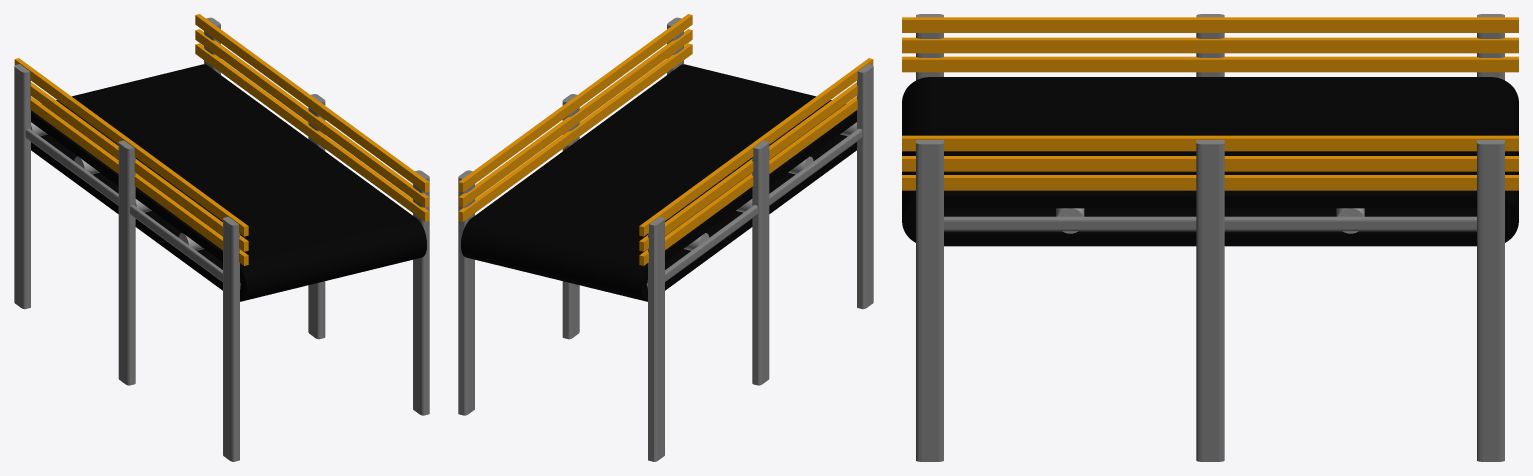
Rendered from Convoyeur.fbx.
3 views of the same model, side by side, from view 1: azimuth 30°, elevation 25°; view 2: azimuth 150°, elevation 25°; view 3: azimuth 270°, elevation 25° (orthographic). The views are drawn at different scales.
Parts seen in each view (by area): view 1: Cube.002; view 2: Cube.002; view 3: Cube.002.
Part boxes in pixels (x1,y1,x2,y2): Cube.002: (14,14,429,461); Cube.002: (458,14,873,461); Cube.002: (902,14,1518,461).
Bounding box in the file's own units: 110 × 126 × 220.
